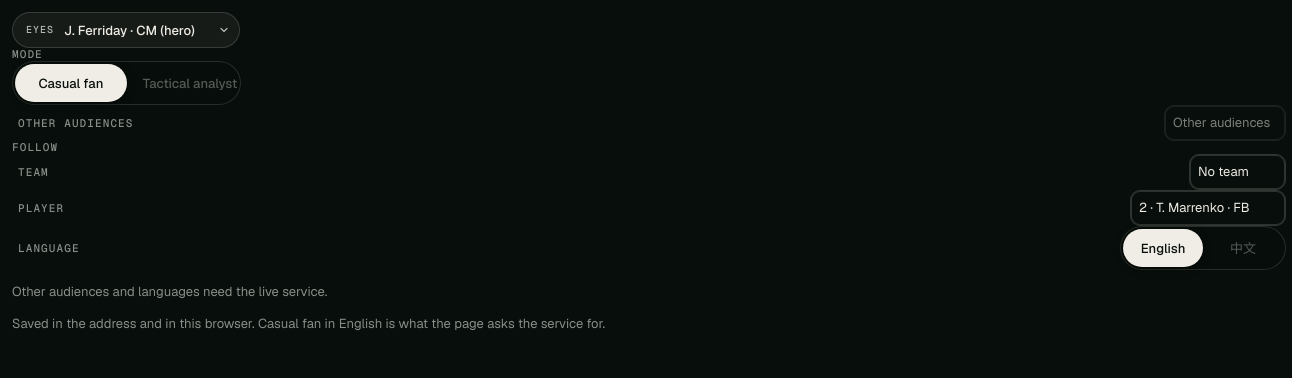
Test: following a player › makes him the EYES when the moment has his look data
Expected: the dropdown named "Whose eyes" shows "J. Ferriday · CM (hero)", [54,12,240,48]
Select "2 · T. Marrenko · FB" in the dropdown labelled "Player" at point(1208, 208), box [1130,190,1286,226]
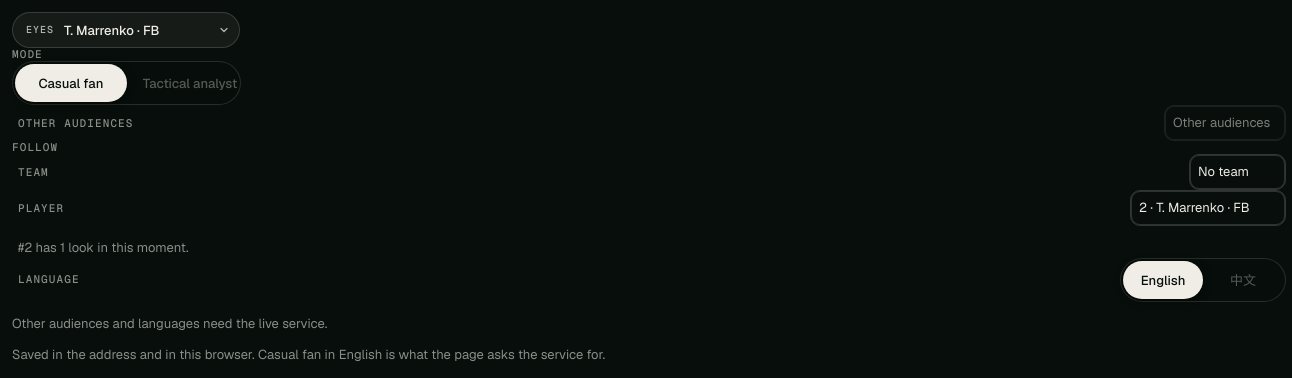
Now the dropdown named "Whose eyes" shows "T. Marrenko · FB", box [54,12,240,48]
Now the element with test id "follow-eyes" reads "#2 has 1 look in this moment.", box [18,239,189,256]
